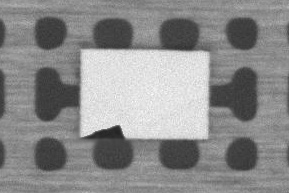DIE_BROKEN: (81, 123, 125, 141)
